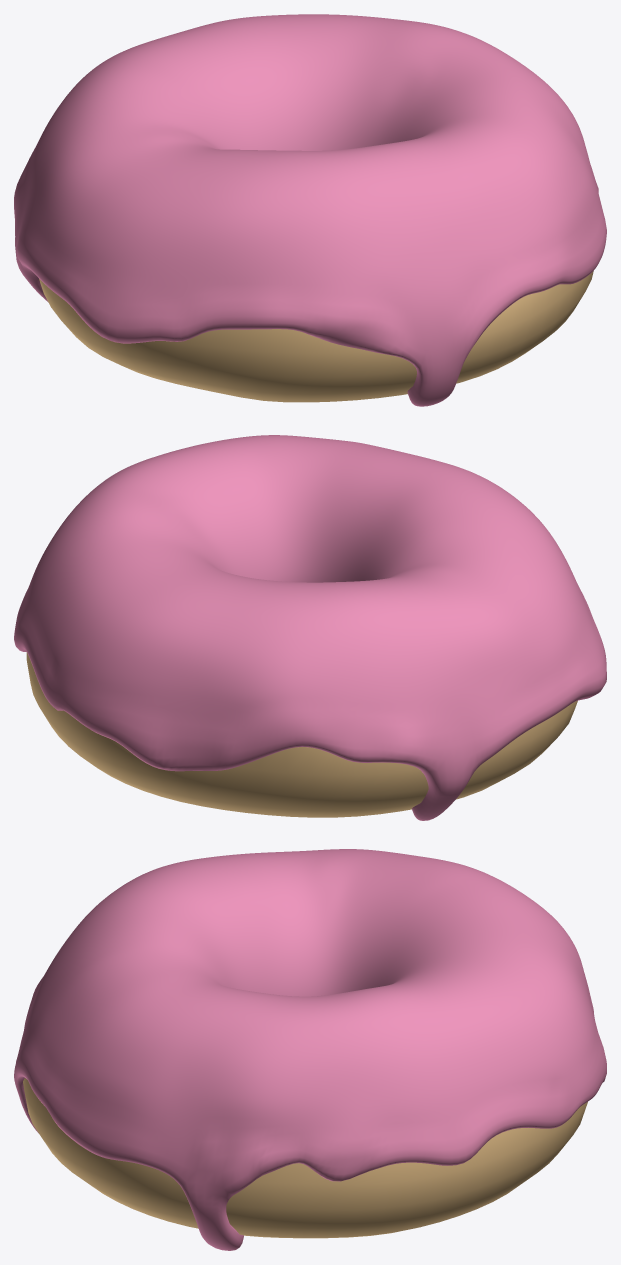
File: donuttutorial.glb
The picture shows the model from 3 angles, top to bottom: view 1: azimuth 30°, elevation 25°; view 2: azimuth 150°, elevation 25°; view 3: azimuth 270°, elevation 25°; orthographic projection. The views are drawn at different scales.
Visible parts, largest first — view 1: Icing, Donut; view 2: Icing, Donut; view 3: Icing, Donut.
Boxes of the visible parts, x1,y1,x2,y2 form: Icing: [14, 14, 606, 406]; Donut: [39, 271, 593, 402]; Icing: [14, 435, 606, 820]; Donut: [26, 652, 577, 817]; Icing: [14, 849, 606, 1250]; Donut: [23, 1078, 587, 1238].
Size of the model in its own units: 1.25 by 0.538 by 1.23.
